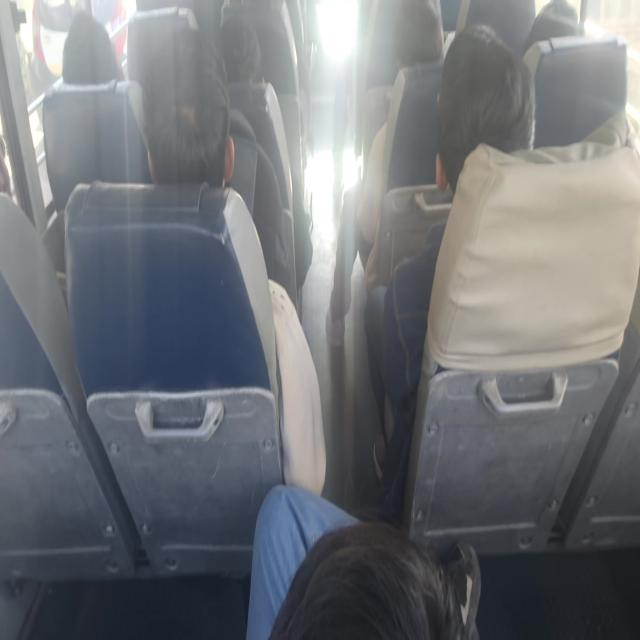person: (134, 27, 327, 496), (362, 22, 536, 513), (135, 27, 294, 301), (246, 482, 482, 638), (137, 29, 235, 187), (61, 9, 124, 85), (216, 15, 264, 85)
